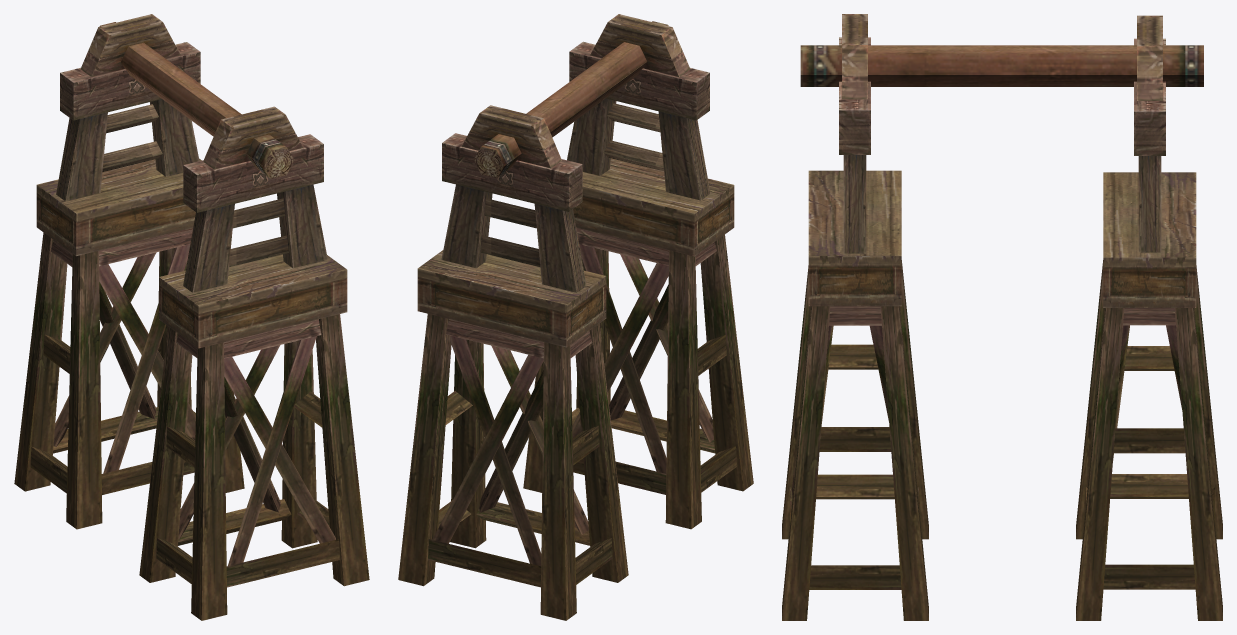
File: shuichezhijia.fbx
3 renders of one model, left to right at view 1: azimuth 30°, elevation 25°; view 2: azimuth 150°, elevation 25°; view 3: azimuth 270°, elevation 25°, orthographic. The views are drawn at different scales.
Visible parts, largest first — view 1: polySurface3040; view 2: polySurface3040; view 3: polySurface3040.
Boxes of the visible parts, x1,y1,x2,y2 form: polySurface3040: (14,14,369,620); polySurface3040: (398,14,753,620); polySurface3040: (782,14,1222,620).
Size of the model in its own units: 24.72 by 64.89 by 47.8.
